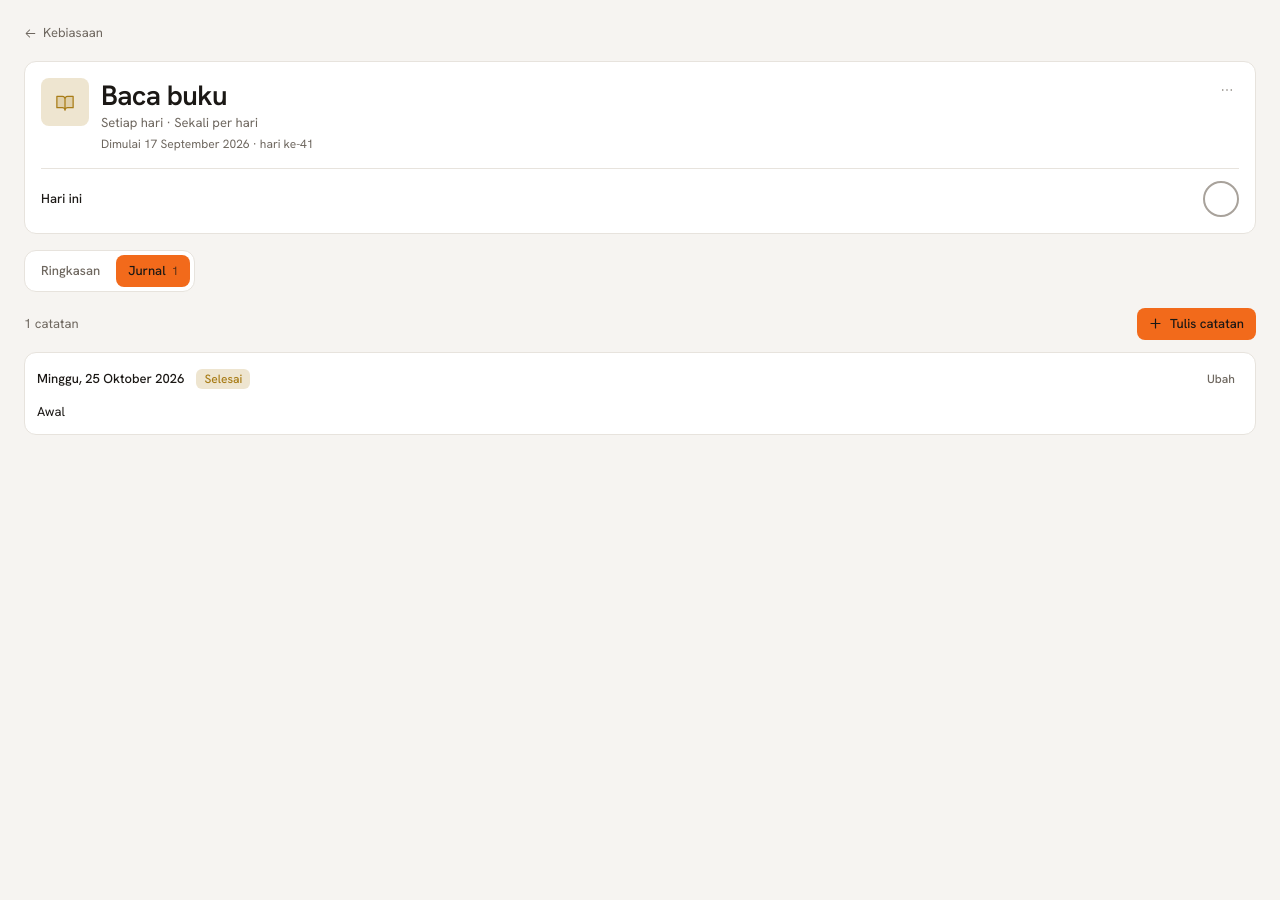
journal › edits an entry in place
Step 1. Click the button named "Ubah catatan" → (1221, 378), box 1199,364 -> 1243,392
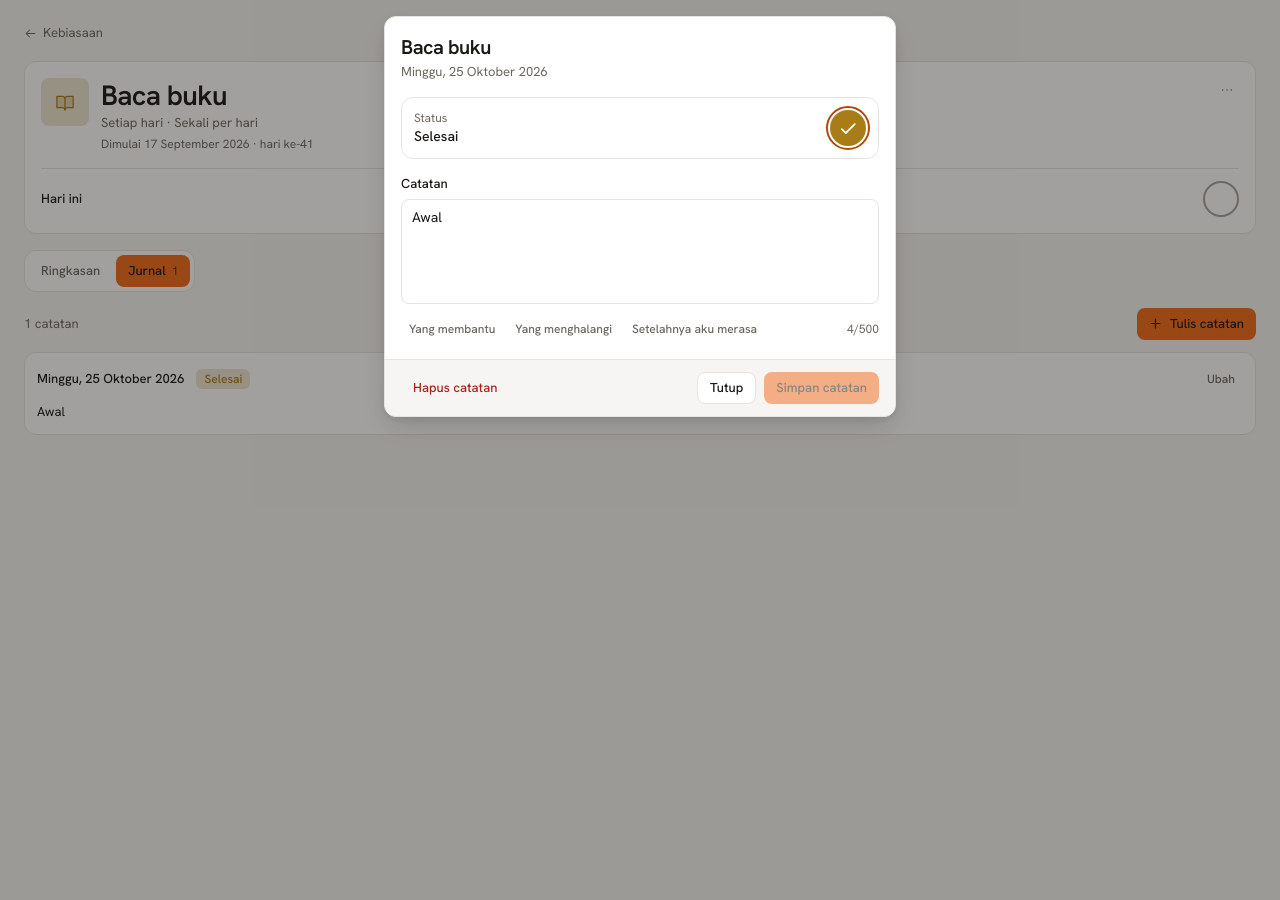
Step 2. Replace the text in the text box labelled "Catatan" with "Diubah" → (640, 252), box 401,199 -> 879,304
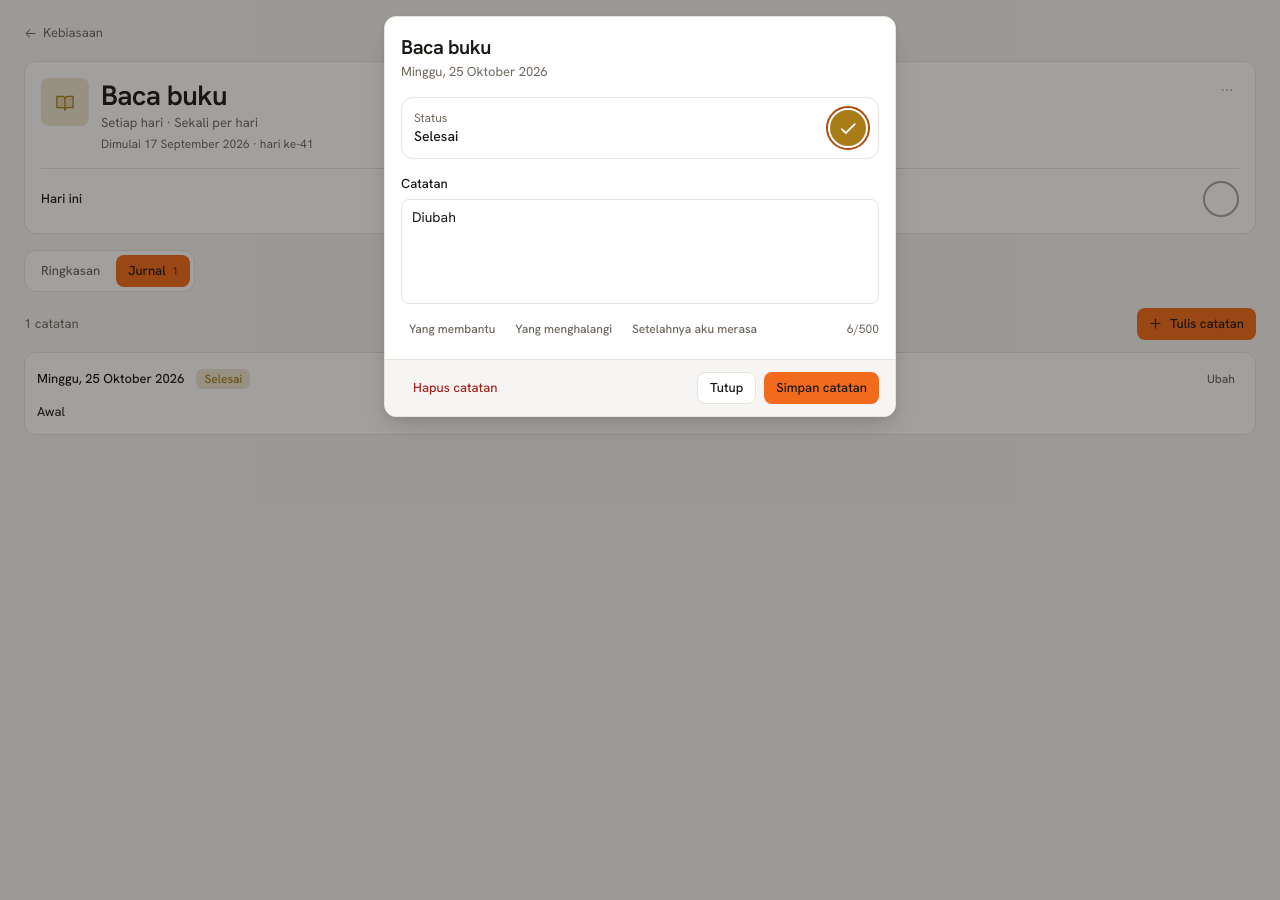
Step 3. Click the button "Simpan catatan" → (822, 388), box 764,372 -> 879,404
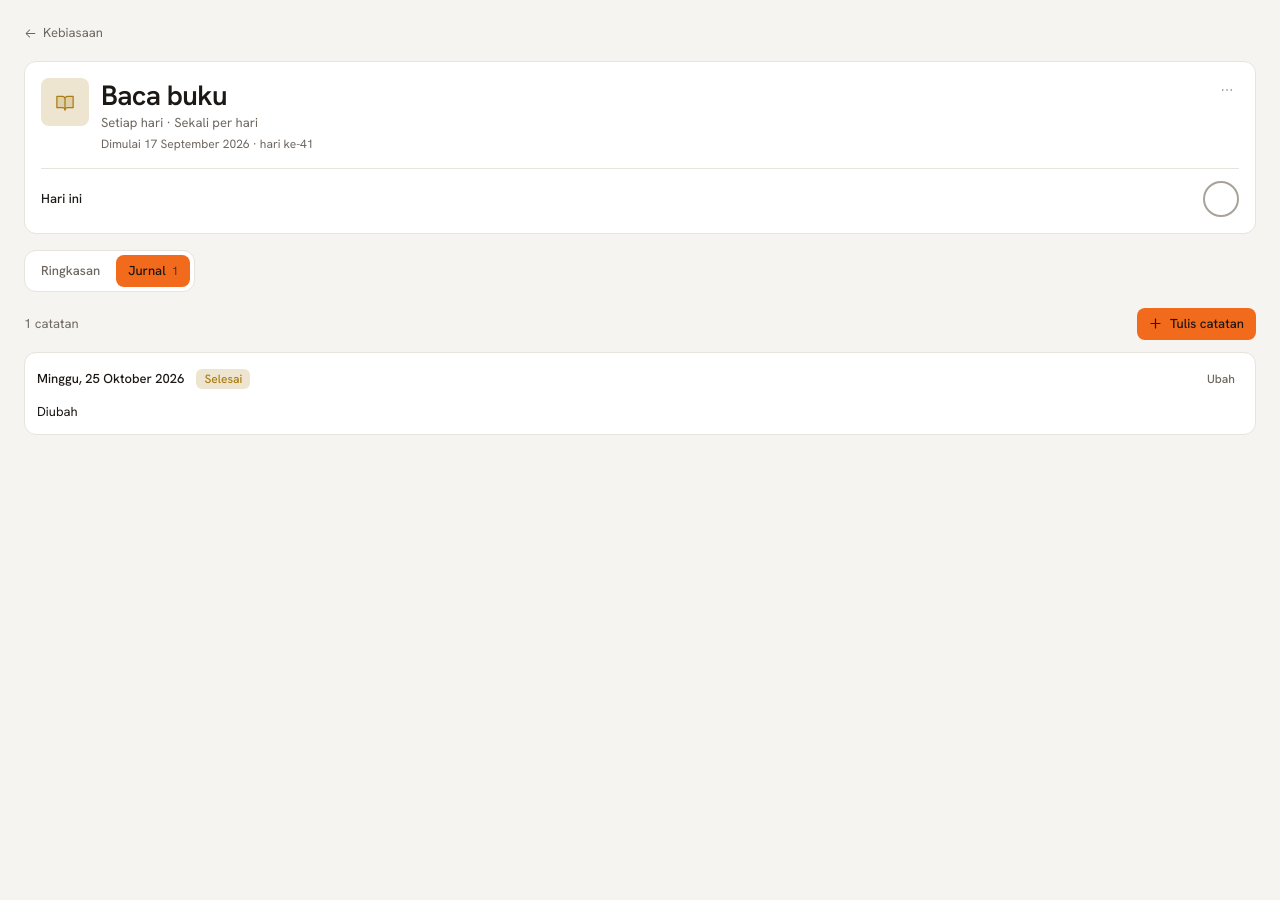
Expected: the text "Diubah" is shown, 37,402 -> 78,420
